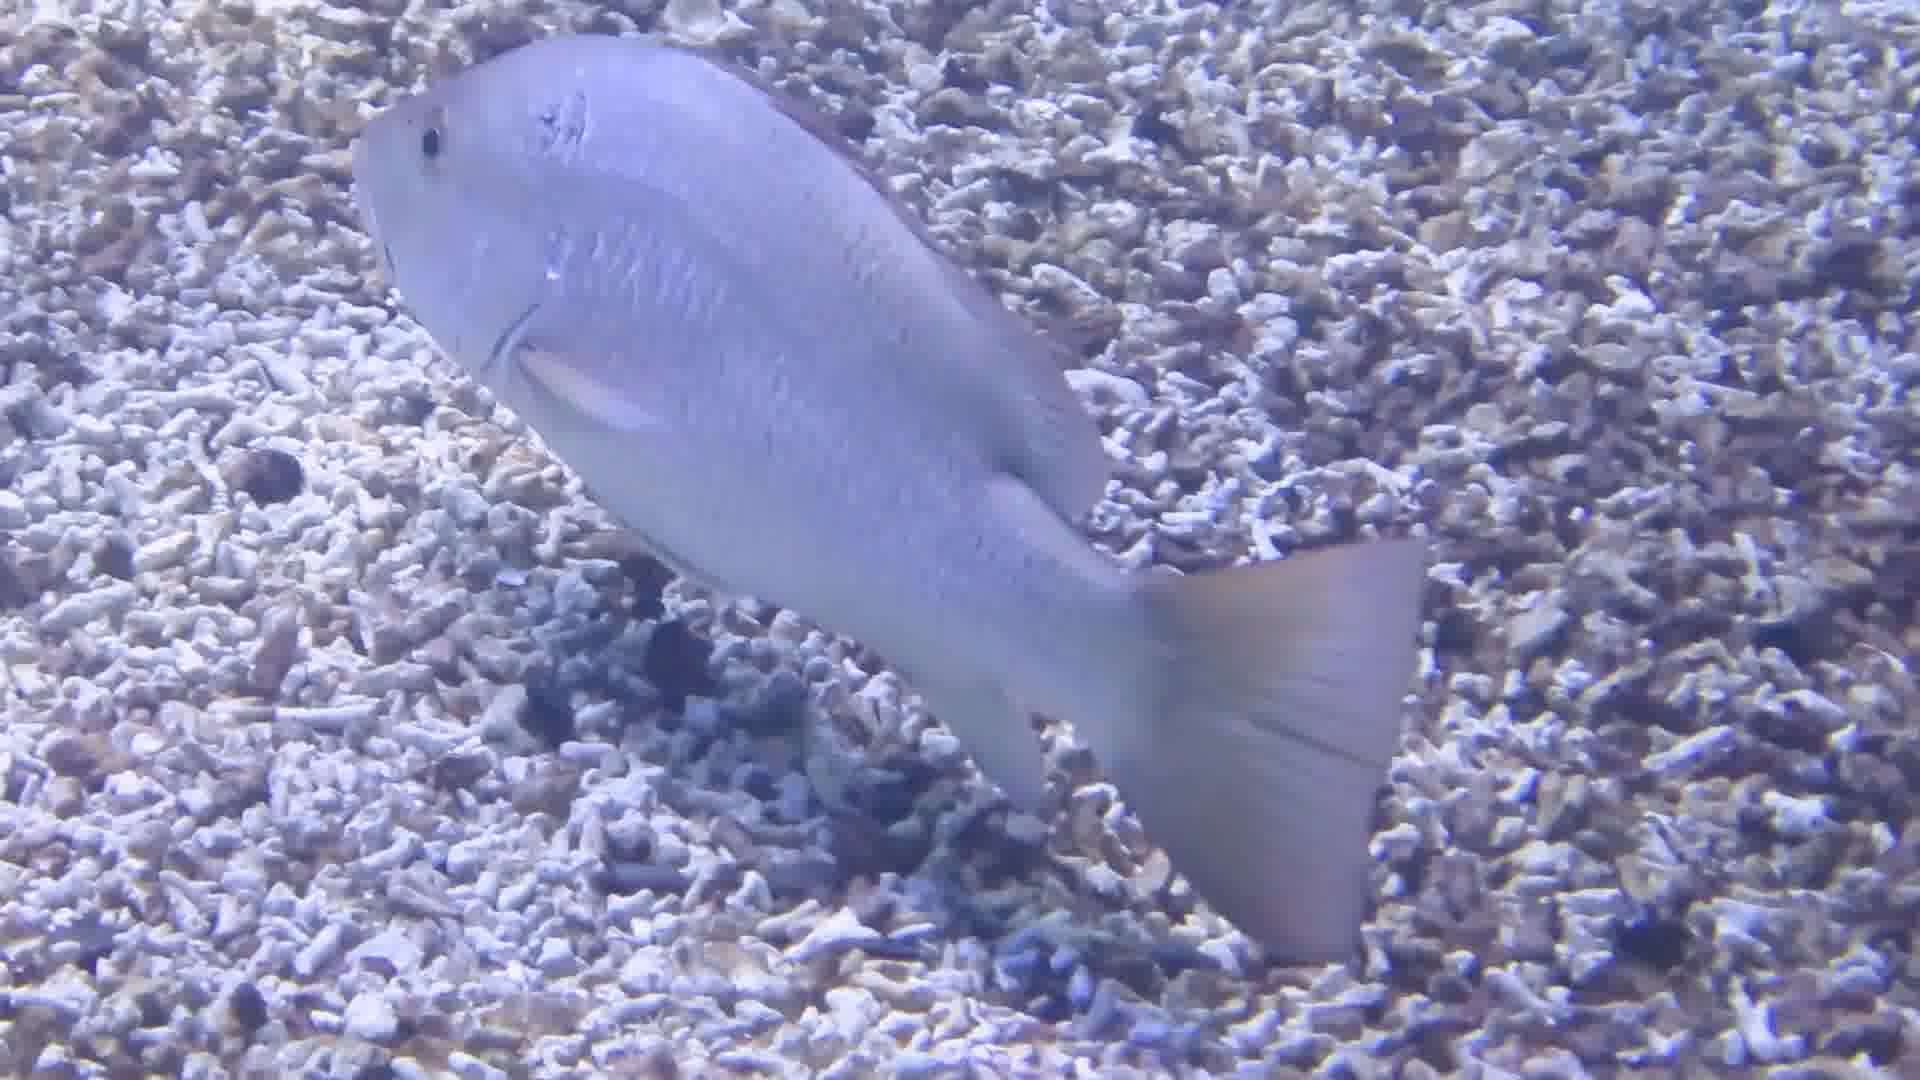Lutjanus argentimaculatus: (364, 40, 1147, 781)
